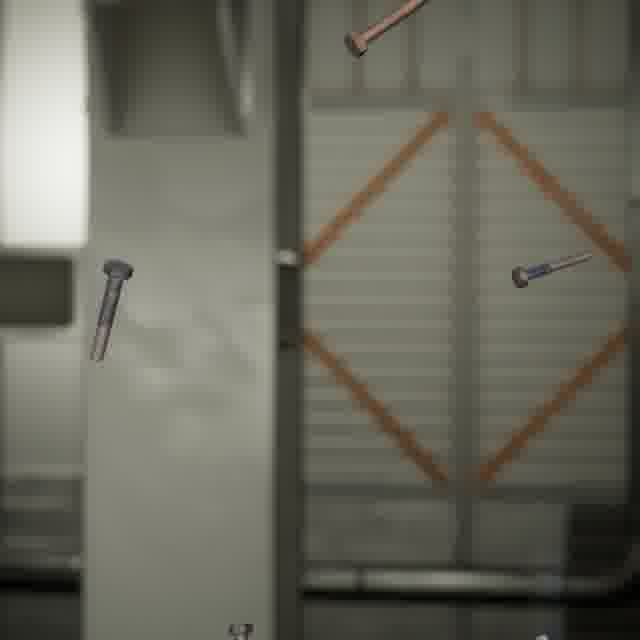bolt: (339, 0, 435, 62), (85, 255, 137, 365), (506, 246, 599, 293)
